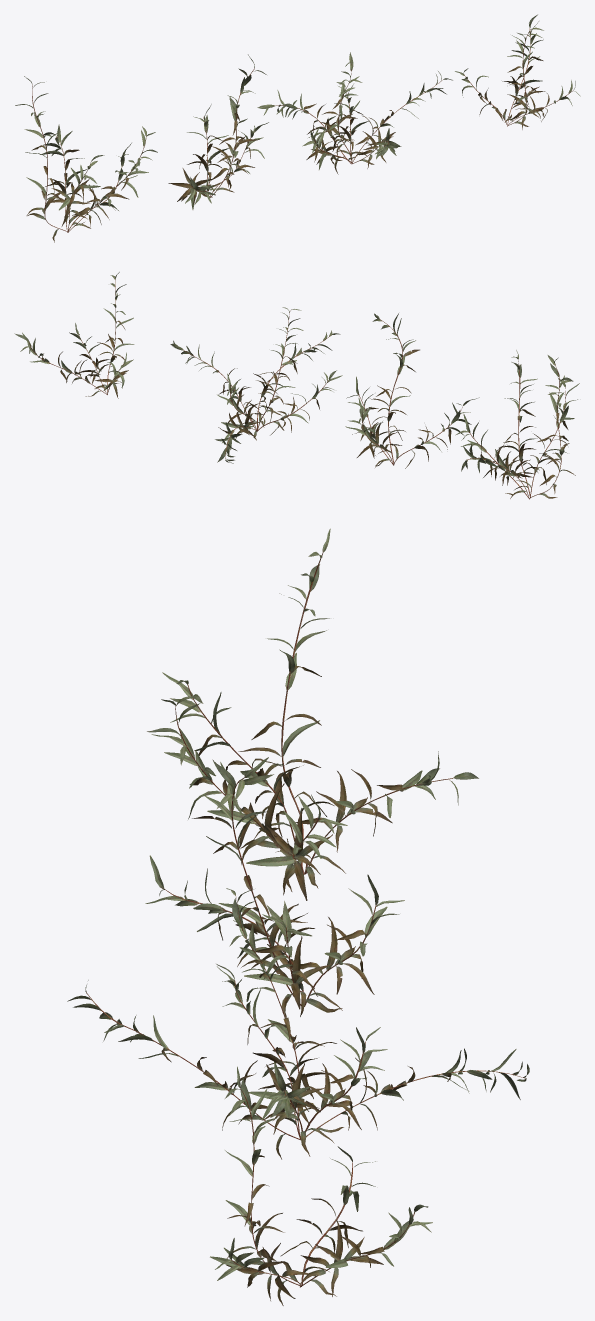
The model's file is shrub_02.glb.
3 views of the same model, one above another, from view 1: azimuth 30°, elevation 25°; view 2: azimuth 150°, elevation 25°; view 3: azimuth 270°, elevation 25° (orthographic). The views are drawn at different scales.
Visible parts, largest first — view 1: shrub_02_c, shrub_02_a, shrub_02_b, shrub_02_d; view 2: shrub_02_a, shrub_02_c, shrub_02_b, shrub_02_d; view 3: shrub_02_a, shrub_02_c, shrub_02_b, shrub_02_d.
Boxes of the visible parts, x1,y1,x2,y2 form: shrub_02_c: [257, 52, 452, 174]; shrub_02_a: [15, 76, 157, 242]; shrub_02_b: [168, 54, 268, 209]; shrub_02_d: [455, 14, 580, 129]; shrub_02_a: [455, 350, 579, 499]; shrub_02_c: [170, 307, 342, 463]; shrub_02_b: [345, 313, 479, 468]; shrub_02_d: [14, 272, 134, 398]; shrub_02_a: [147, 528, 478, 900]; shrub_02_c: [67, 888, 529, 1159]; shrub_02_b: [145, 757, 404, 1018]; shrub_02_d: [210, 1066, 432, 1305].
Bounding box in the file's own units: 6.05 × 1.7 × 2.29.
1 material, 1 textured.
